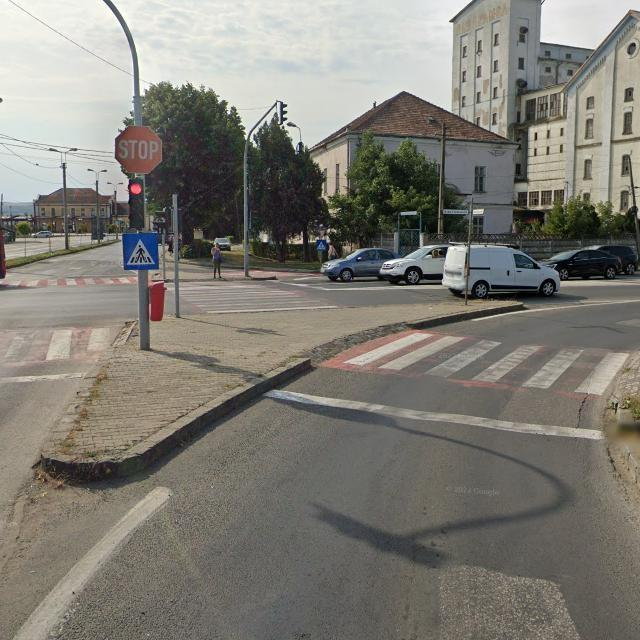info_crosswalk: (123, 231, 159, 270)
prio_stop: (115, 125, 162, 175)
